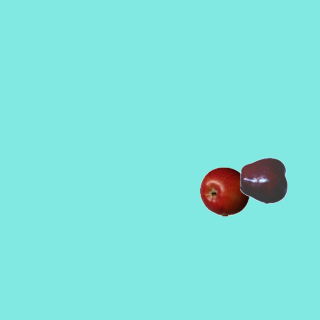Apple Braeburn: (199, 166, 249, 216)
Apple Red Delicious: (239, 155, 289, 205)
